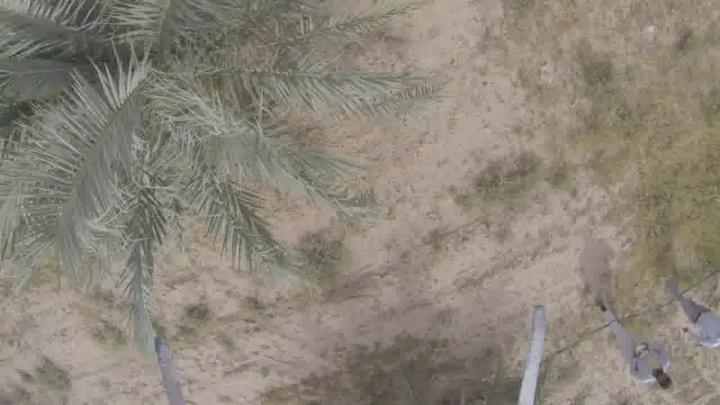Date-Palm-Crown: (0, 0, 250, 178)
